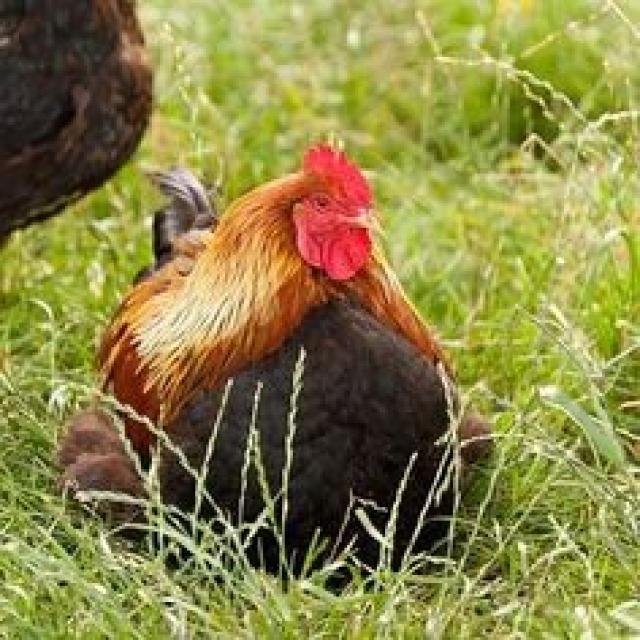Herbivorous: (57, 144, 491, 594)
